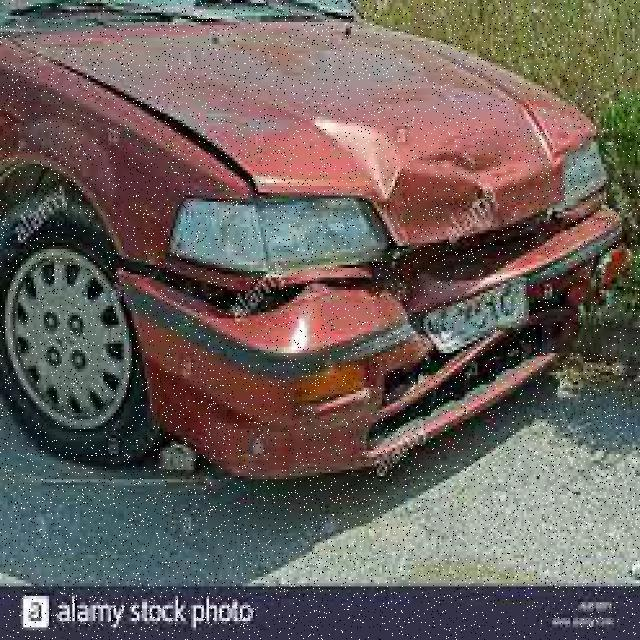bonnet-dent: (96, 19, 584, 230)
front-bumper-dent: (113, 230, 638, 454)
